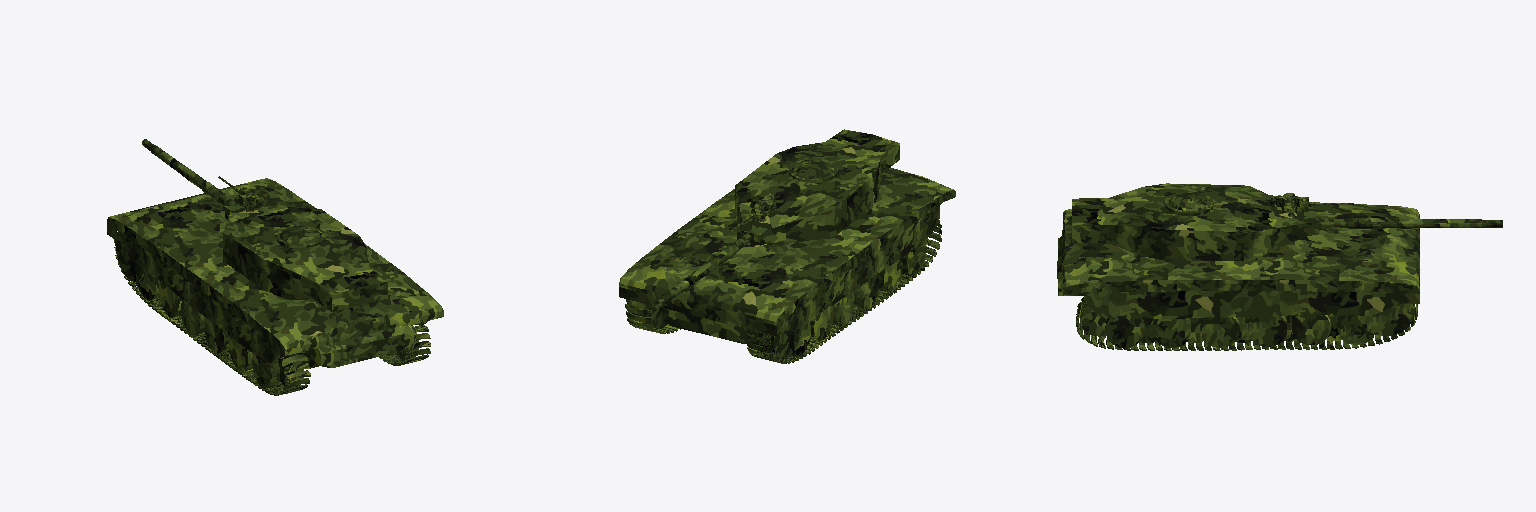
3 renders of one model, left to right at view 1: azimuth 30°, elevation 25°; view 2: azimuth 150°, elevation 25°; view 3: azimuth 270°, elevation 25°, orthographic.
Visible parts, largest first — view 1: polySurface9; view 2: polySurface9; view 3: polySurface9.
Part boxes in pixels (x1,y1,x2,y2): polySurface9: (107, 139, 443, 395); polySurface9: (619, 129, 955, 363); polySurface9: (1057, 183, 1502, 350).
Bounding box in the file's own units: 2.14 × 1.54 × 5.21.
Materials: 1 (1 with a texture image).